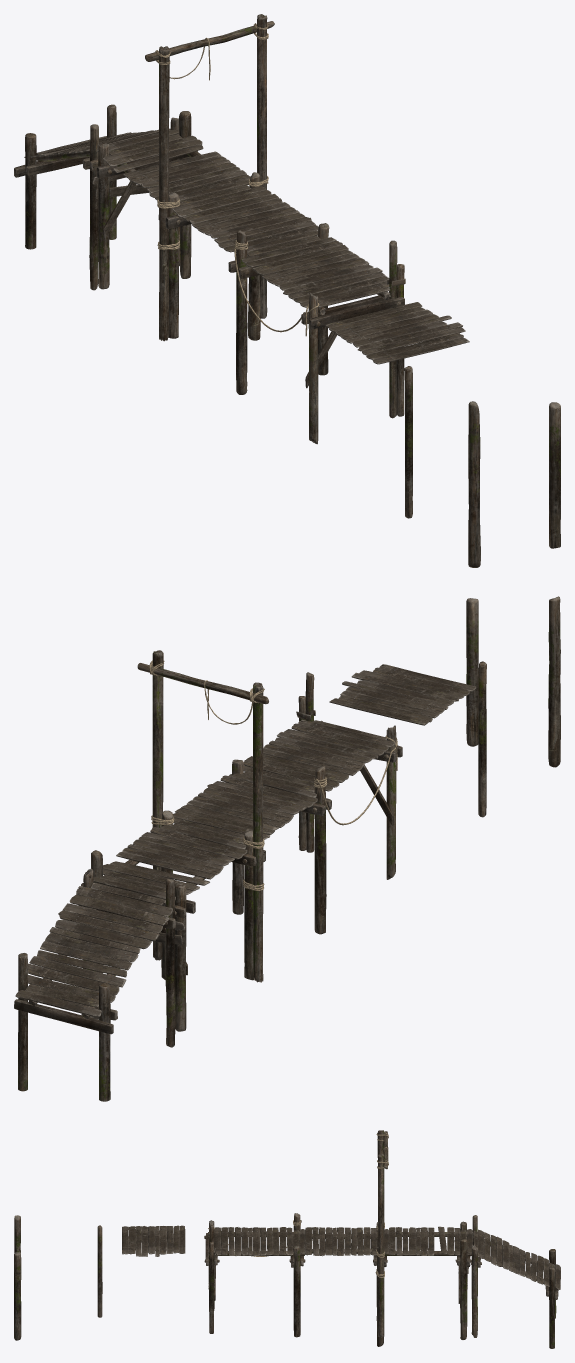
The model's file is modular_wooden_pier_low.glb.
The picture shows the model from 3 angles, top to bottom: view 1: azimuth 30°, elevation 25°; view 2: azimuth 150°, elevation 25°; view 3: azimuth 270°, elevation 25°; orthographic projection. The views are drawn at different scales.
Visible parts, largest first — view 1: modular_wooden_pier_section_01, modular_wooden_pier_section_03, modular_wooden_pier_section_02, modular_wooden_pier_section_05, modular_wooden_pier_section_04, modular_wooden_pier_planks, modular_wooden_pier_poles; view 2: modular_wooden_pier_section_04, modular_wooden_pier_section_01, modular_wooden_pier_section_03, modular_wooden_pier_section_02, modular_wooden_pier_section_05, modular_wooden_pier_poles, modular_wooden_pier_planks; view 3: modular_wooden_pier_section_01, modular_wooden_pier_section_04, modular_wooden_pier_section_03, modular_wooden_pier_section_02, modular_wooden_pier_planks, modular_wooden_pier_section_05, modular_wooden_pier_poles.
Boxes of the visible parts, x1=… form: modular_wooden_pier_section_01: x1=228, y1=223, x2=405, y2=444; modular_wooden_pier_section_03: x1=89, y1=111, x2=250, y2=289; modular_wooden_pier_section_02: x1=158, y1=172, x2=318, y2=340; modular_wooden_pier_section_05: x1=145, y1=14, x2=274, y2=341; modular_wooden_pier_section_04: x1=14, y1=104, x2=179, y2=290; modular_wooden_pier_planks: x1=325, y1=302, x2=469, y2=364; modular_wooden_pier_poles: x1=404, y1=366, x2=560, y2=567; modular_wooden_pier_section_04: x1=14, y1=868, x2=175, y2=1101; modular_wooden_pier_section_01: x1=229, y1=672, x2=402, y2=934; modular_wooden_pier_section_03: x1=81, y1=827, x2=247, y2=1031; modular_wooden_pier_section_02: x1=160, y1=775, x2=317, y2=980; modular_wooden_pier_section_05: x1=137, y1=650, x2=268, y2=982; modular_wooden_pier_poles: x1=466, y1=596, x2=560, y2=817; modular_wooden_pier_planks: x1=329, y1=664, x2=476, y2=725; modular_wooden_pier_section_01: x1=204, y1=1213, x2=305, y2=1337; modular_wooden_pier_section_04: x1=471, y1=1215, x2=560, y2=1348; modular_wooden_pier_section_03: x1=376, y1=1221, x2=473, y2=1339; modular_wooden_pier_section_02: x1=292, y1=1222, x2=389, y2=1346; modular_wooden_pier_planks: x1=122, y1=1225, x2=185, y2=1256; modular_wooden_pier_section_05: x1=375, y1=1130, x2=388, y2=1337; modular_wooden_pier_poles: x1=14, y1=1215, x2=102, y2=1340.
Size of the model in its own units: 3.1 by 7.51 by 19.03.
2 materials, 2 textured.
